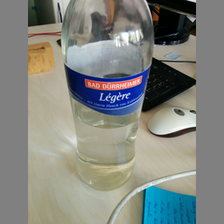water: (60, 1, 155, 190)
